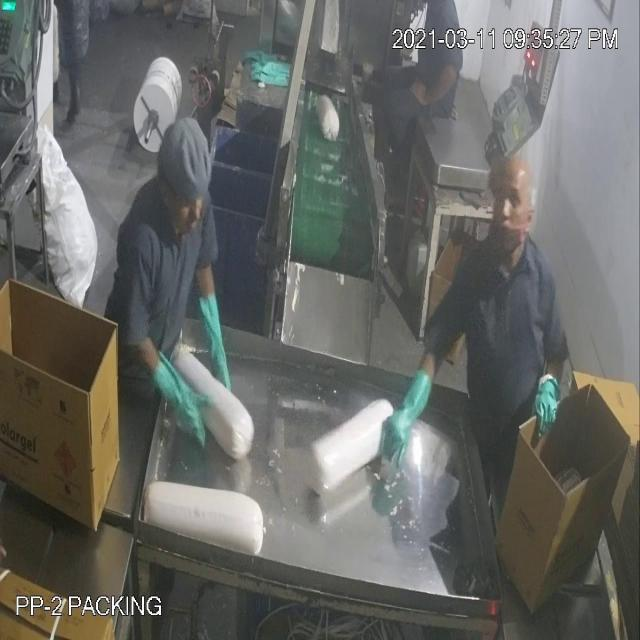Gloves: (36, 80, 543, 416)
